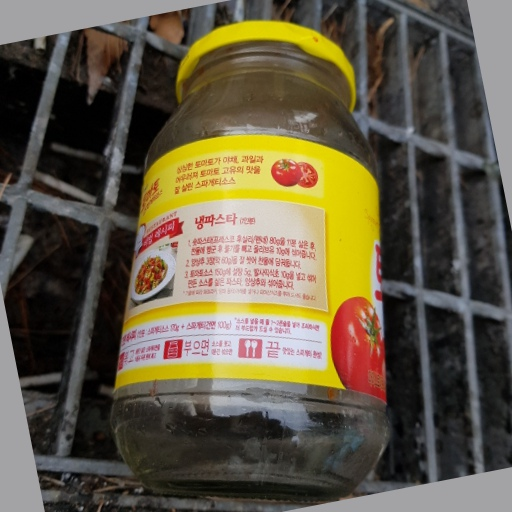Glass_5: (108, 21, 393, 503)
